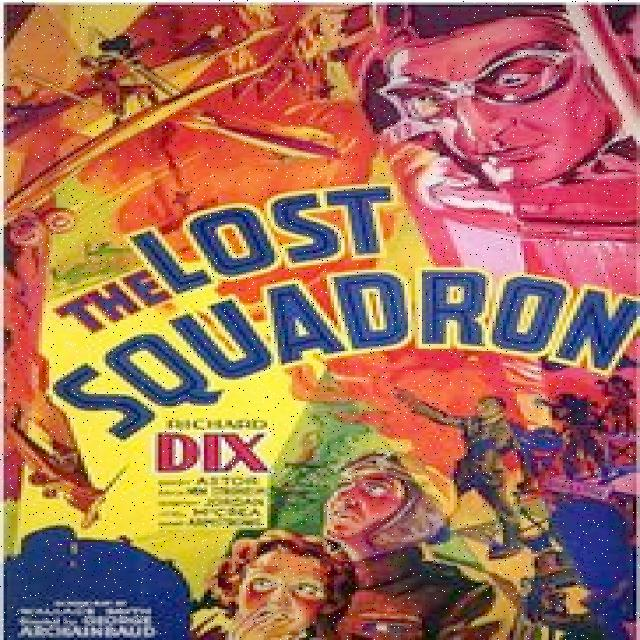movie-judul: (52, 180, 640, 445)
picture: (189, 376, 640, 639), (368, 0, 638, 298)
